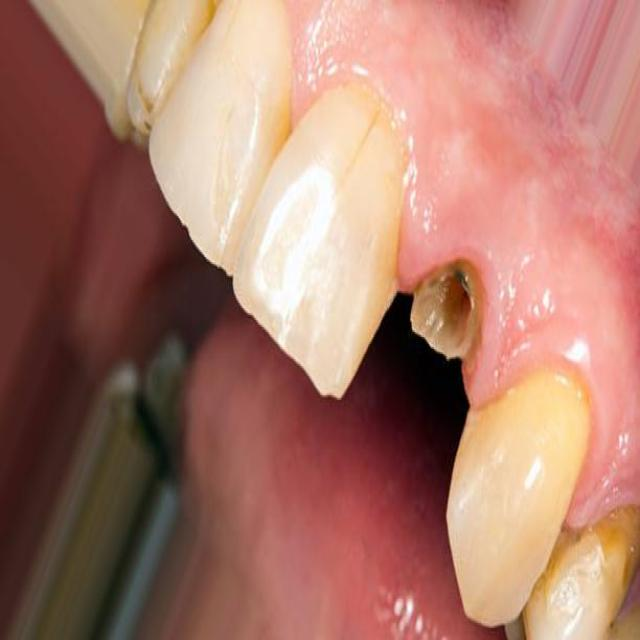caries: (401, 249, 496, 379), (587, 490, 640, 616)
